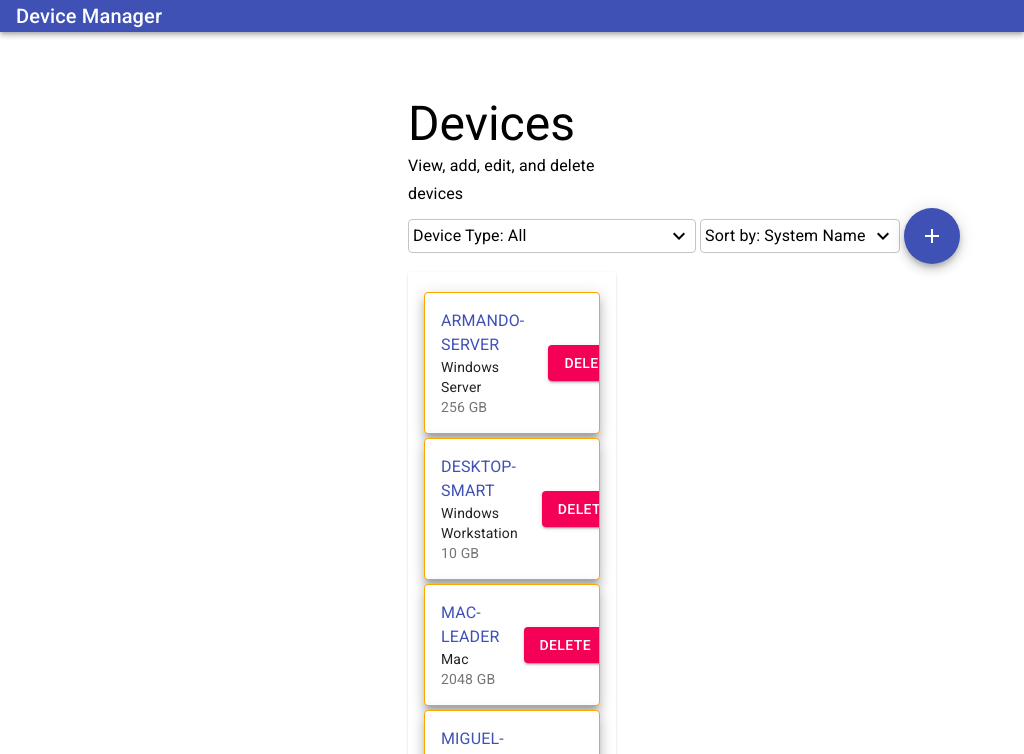
Test case: The Dashboard › will filter by device type windows workstation
This screenshot has width=1024, height=754.
Check: the text "ARMANDO-SERVER" is shown, box top-left (441, 309), bottom-right (524, 357)
Click the element with test id "filter-option-dropdown": (552, 236) top-left (408, 219), bottom-right (696, 253)
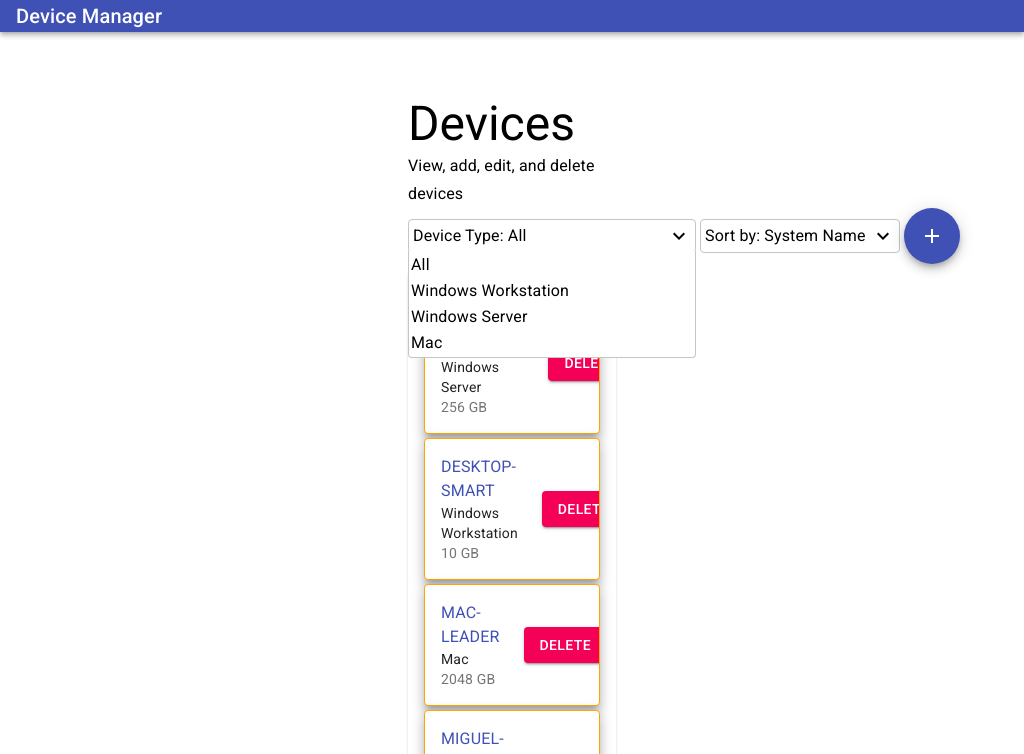
Click the list item with test id "filter-WINDOWS_WORKSTATION": (490, 290) top-left (411, 281), bottom-right (569, 300)
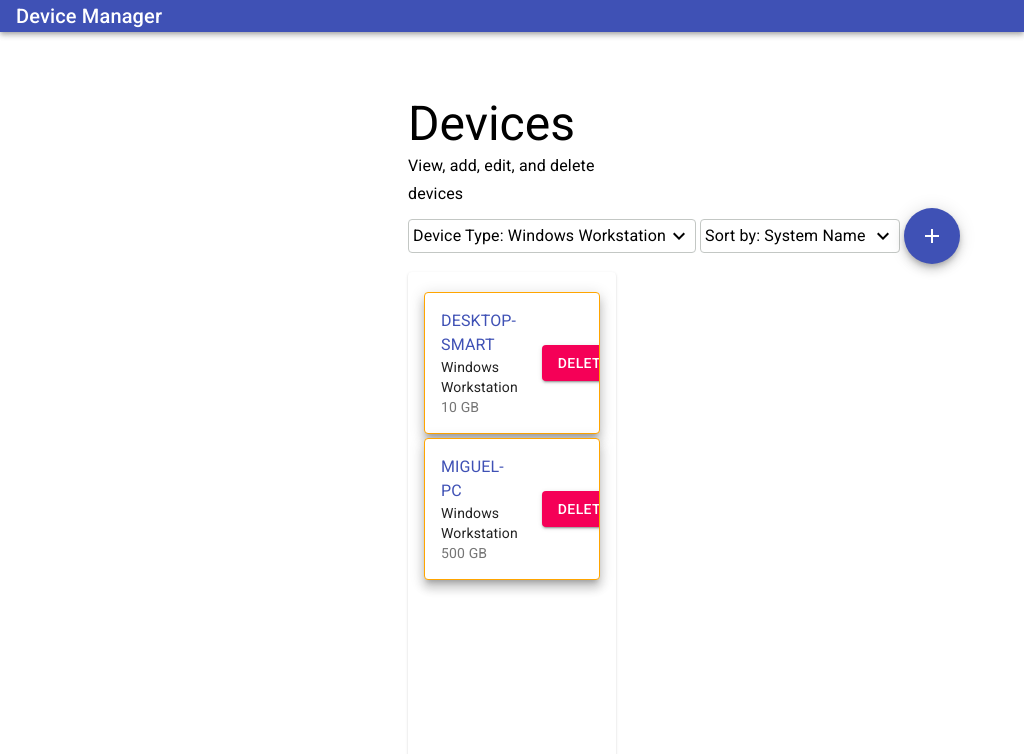
Check: the text "DESKTOP-SMART" is shown, box top-left (441, 309), bottom-right (518, 357)
Check: the text "MAC-LEADER" is gone
Check: the text "ARMANDO-SERVER" is gone
